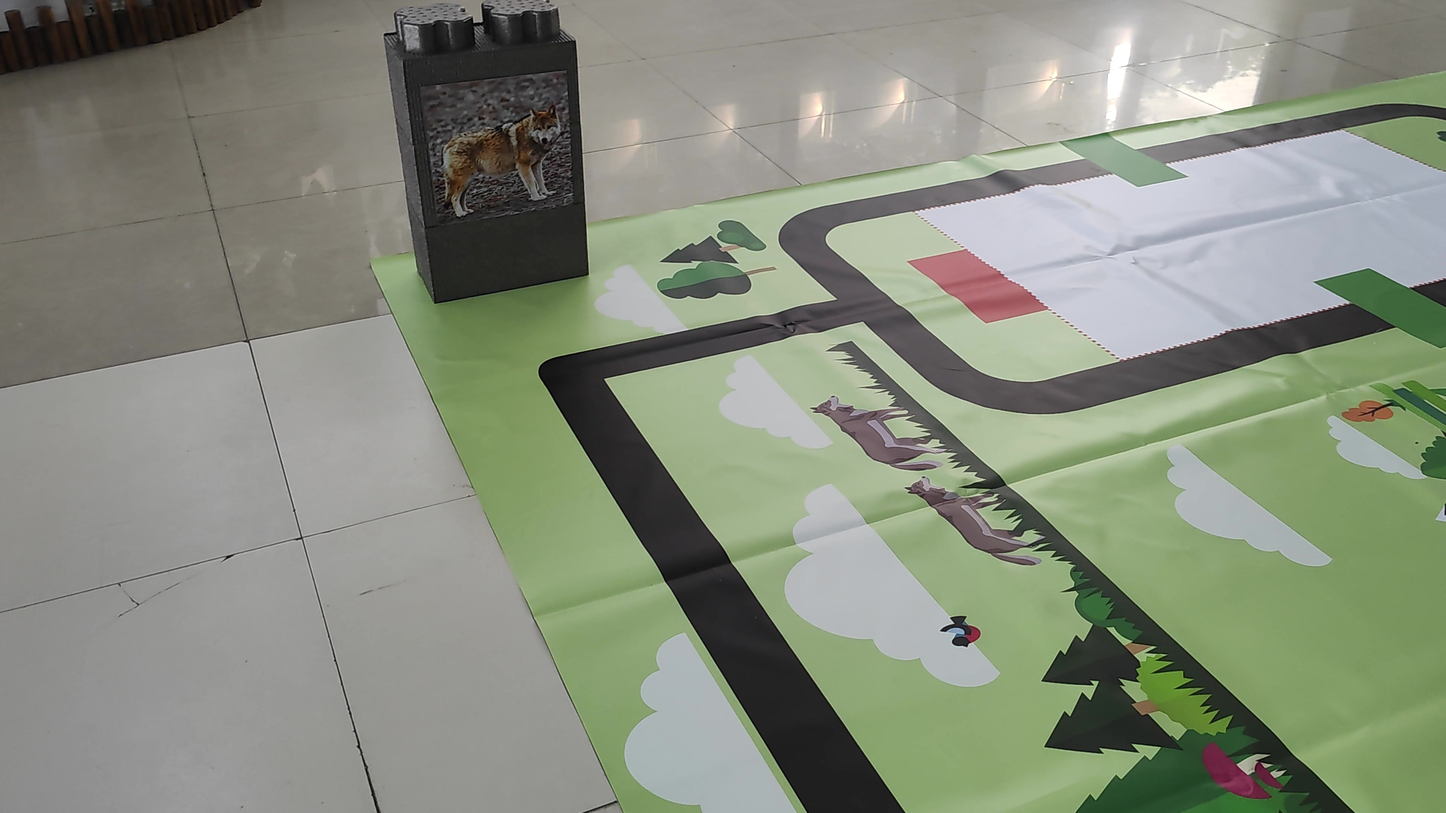wolf: (432, 88, 573, 231)
